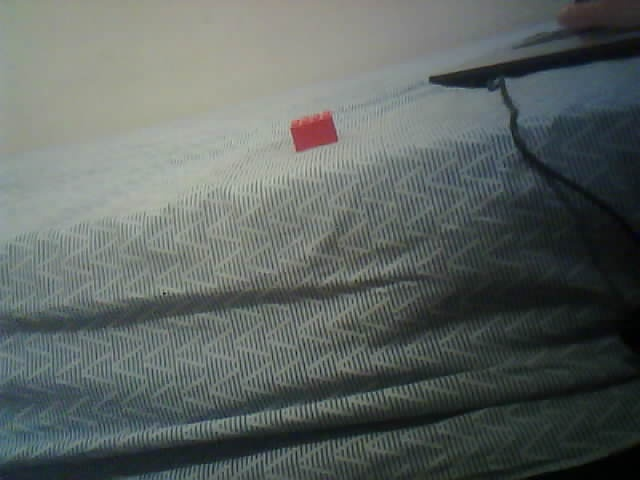lego: (289, 111, 338, 152)
